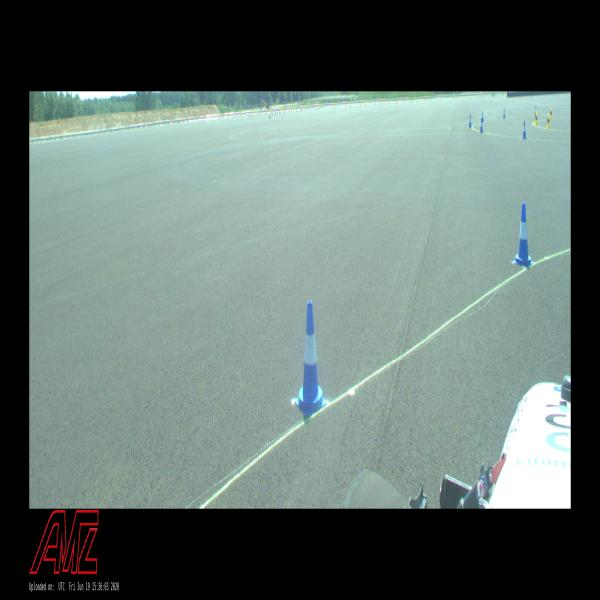blue_cone: (294, 300, 327, 416), (514, 203, 534, 266), (522, 121, 527, 139), (480, 118, 484, 132), (468, 115, 471, 127), (482, 111, 484, 122), (534, 105, 536, 115), (503, 108, 505, 118)
yellow_cone: (534, 110, 538, 125), (547, 114, 550, 129), (550, 108, 552, 119)
